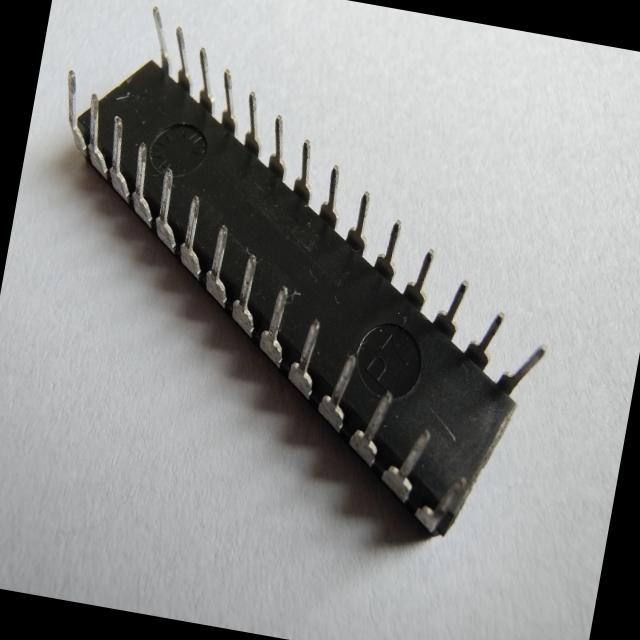atmega: (0, 0, 596, 555)
